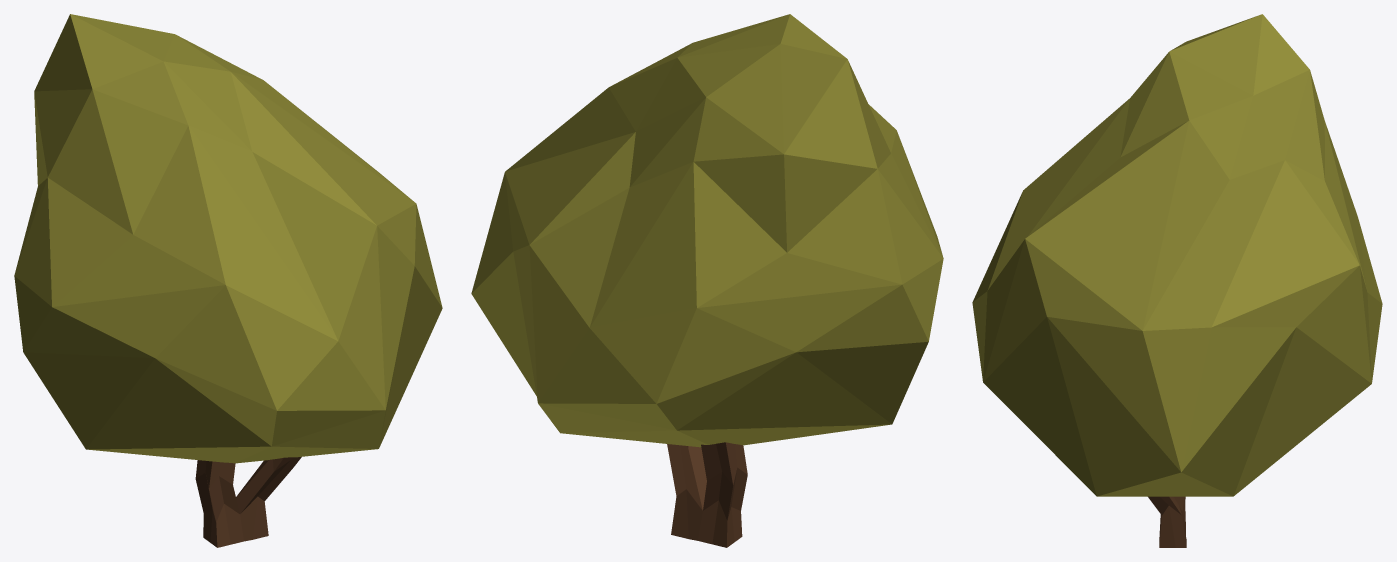
File: Tree_49_Yellow.fbx
3 views of the same model, side by side, from view 1: azimuth 30°, elevation 25°; view 2: azimuth 150°, elevation 25°; view 3: azimuth 270°, elevation 25° (orthographic). The views are drawn at different scales.
Visible parts, largest first — view 1: Tree_49_Yellow_Part_1, Tree_49_Yellow_Part_2; view 2: Tree_49_Yellow_Part_1, Tree_49_Yellow_Part_2; view 3: Tree_49_Yellow_Part_1, Tree_49_Yellow_Part_2.
Part boxes in pixels (box(x1,y1,x2,y2)): Tree_49_Yellow_Part_1: box(14, 14, 442, 463); Tree_49_Yellow_Part_2: box(195, 457, 301, 547); Tree_49_Yellow_Part_1: box(471, 14, 943, 447); Tree_49_Yellow_Part_2: box(667, 442, 747, 547); Tree_49_Yellow_Part_1: box(972, 14, 1382, 496); Tree_49_Yellow_Part_2: box(1148, 496, 1186, 547).
Size of the model in its own units: 654 by 768 by 606.
